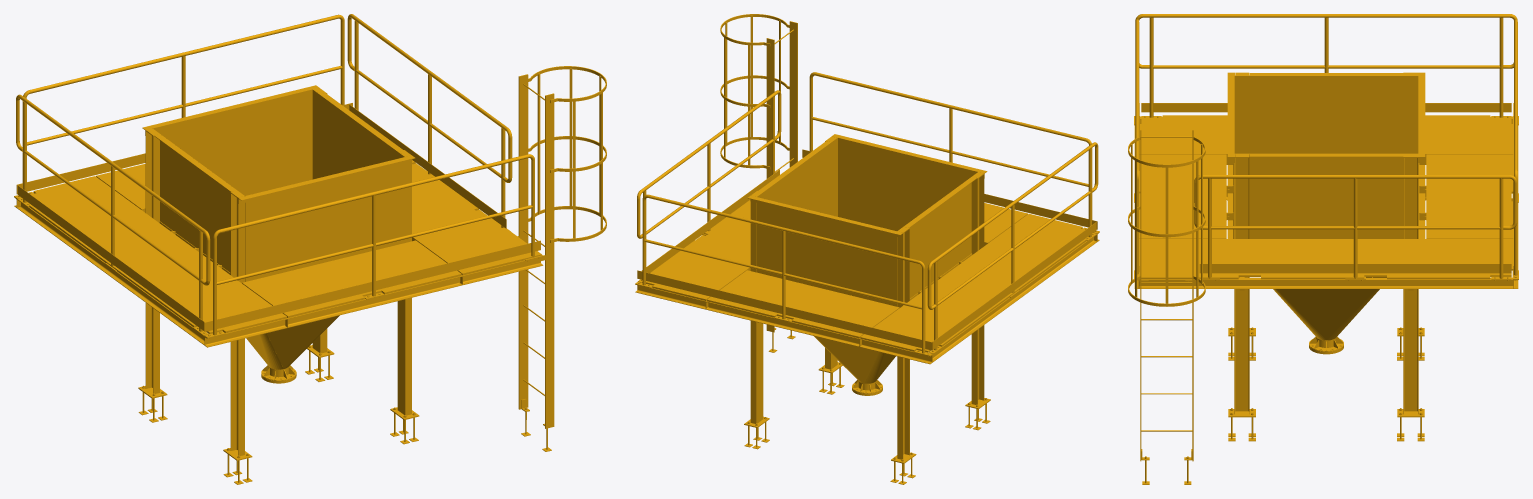
File: hopper.glb
3 views of the same model, side by side, from view 1: azimuth 30°, elevation 25°; view 2: azimuth 150°, elevation 25°; view 3: azimuth 270°, elevation 25° (orthographic). The views are drawn at different scales.
Visible parts, largest first — view 1: Object_7, Object_783, Object_6; view 2: Object_7, Object_783, Object_6; view 3: Object_7, Object_783, Object_6.
Part boxes in pixels (x1,y1,x2,y2): Object_7: [14, 14, 602, 484]; Object_783: [146, 88, 545, 408]; Object_6: [16, 15, 606, 428]; Object_7: [635, 15, 1099, 484]; Object_783: [751, 136, 983, 392]; Object_6: [640, 14, 1097, 455]; Object_7: [1131, 14, 1518, 484]; Object_783: [1141, 72, 1418, 459]; Object_6: [1128, 22, 1517, 461].
Bounding box in the file's own units: 4611 × 3840 × 3820.
